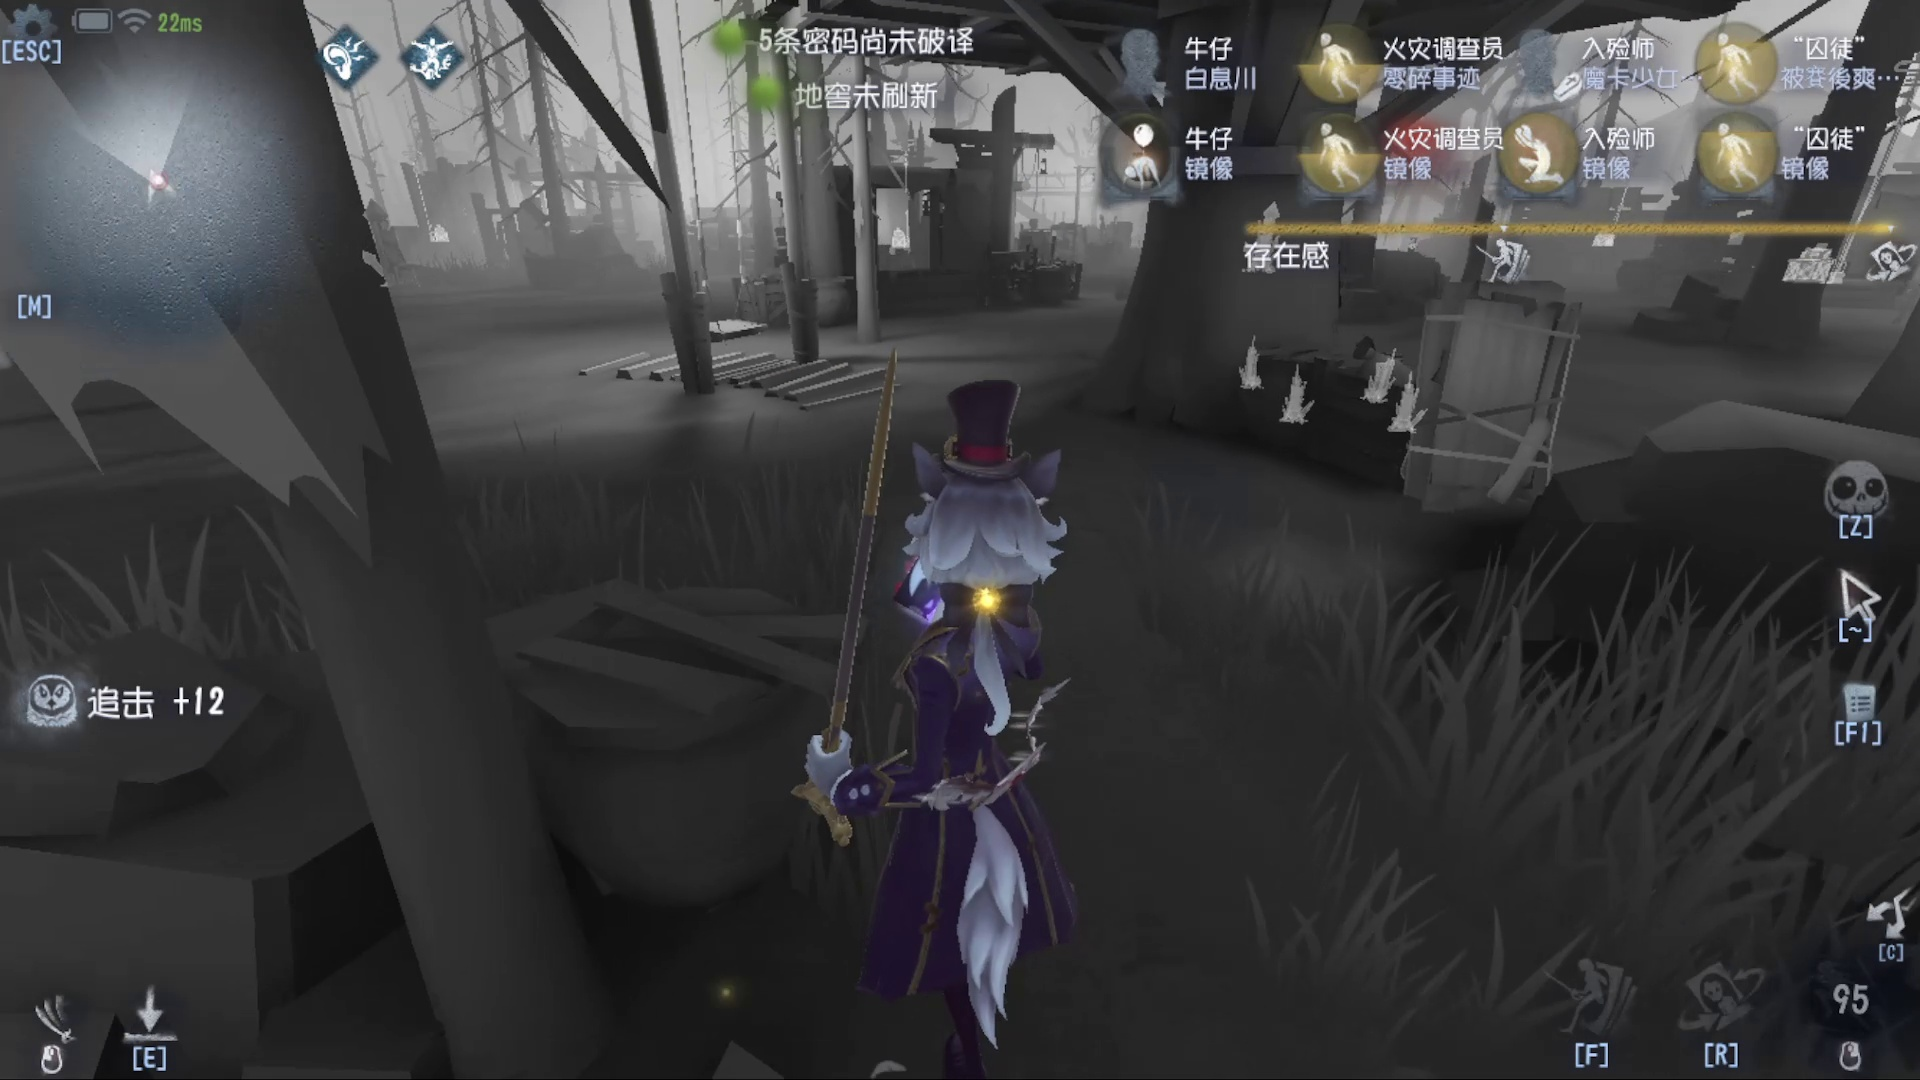木板: (1398, 256, 1586, 526)
狂欢之椅: (1220, 316, 1278, 410), (1276, 363, 1324, 434)
